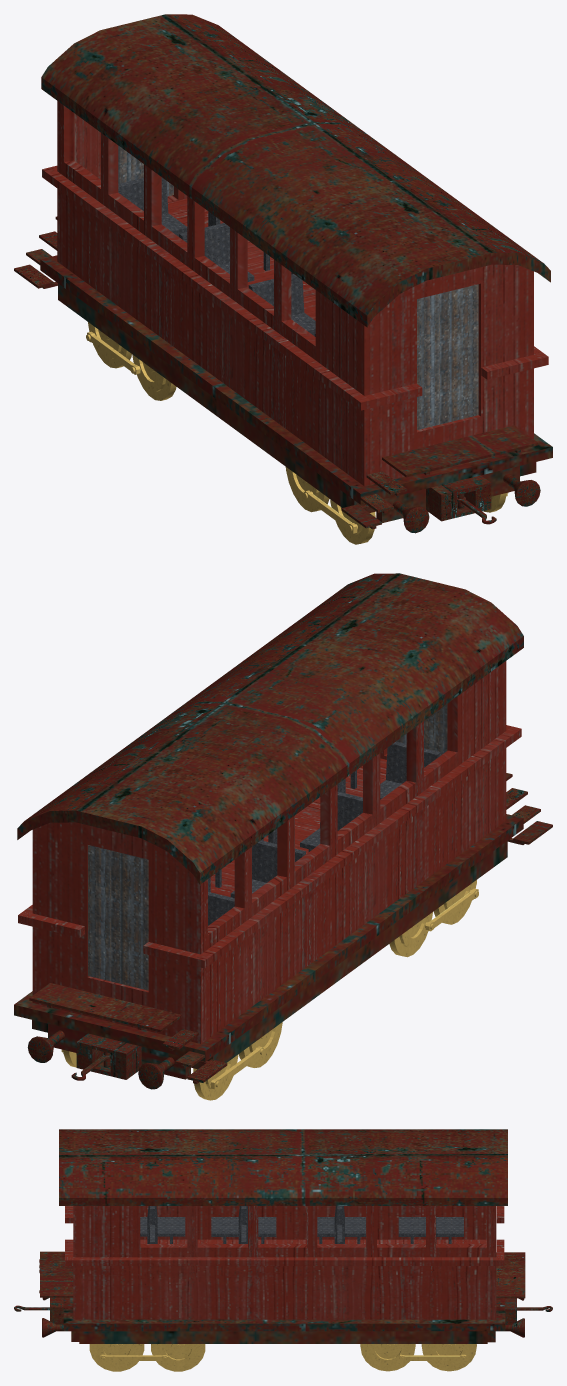
The model's file is VagaoPassageiro.fbx.
The picture shows the model from 3 angles, top to bottom: view 1: azimuth 30°, elevation 25°; view 2: azimuth 150°, elevation 25°; view 3: azimuth 270°, elevation 25°; orthographic projection. The views are drawn at different scales.
Visible parts, largest first — view 1: VagaoPassageiros; view 2: VagaoPassageiros; view 3: VagaoPassageiros.
Part boxes in pixels (x1,y1,x2,y2): VagaoPassageiros: [14, 14, 552, 544]; VagaoPassageiros: [14, 573, 552, 1100]; VagaoPassageiros: [14, 1129, 552, 1371].
Size of the model in its own units: 7.41 by 10.24 by 24.57.
5 materials, 5 textured.
